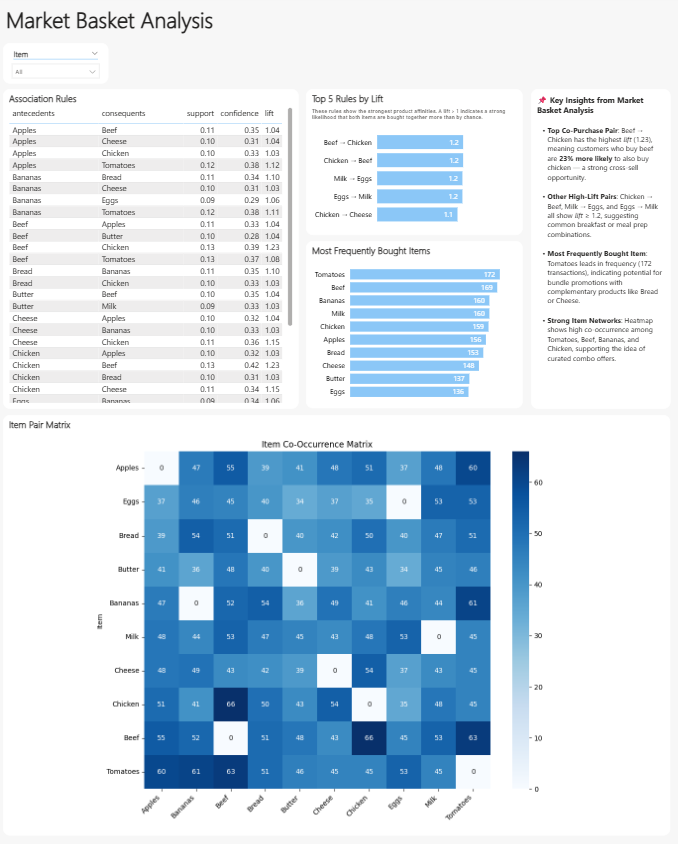

The dashboard page shown, as its layout file describes it:
{"tool":"powerbi","page":{"name":"Page 1","canvas":[1160,1450],"ordinal":0},"visuals":[{"type":"textbox","box":[10.3,10.3,502.4,61.5],"z":0},{"type":"tableEx","title":"Association Rules","fields":{"Values":["market_basket_rules.antecedents","market_basket_rules.consequents","market_basket_rules.support","market_basket_rules.confidence","market_basket_rules.lift"]},"box":[10.3,159.4,502.4,543.4],"z":1000},{"type":"clusteredBarChart","title":"Top 5 Rules by Lift","fields":{"Category":["market_basket_rules.antecedents-consequents"],"Y":["Sum(market_basket_rules.lift)"]},"box":[525.4,159.7,368.1,248.3],"z":2000},{"type":"clusteredBarChart","title":"Most Frequently Bought Items","fields":{"Y":["market_basket_grouped Lists.Item Count"],"Category":["market_basket_grouped Lists.Item"]},"box":[525.4,418.4,368.1,284.3],"z":3000},{"type":"slicer","fields":{"Values":["market_basket_rules.antecedents"]},"box":[10.1,81.8,178.7,69.5],"z":4000},{"type":"textbox","box":[906.3,159.7,237.2,543],"z":5000},{"type":"pythonVisual","title":"Item Pair Matrix","fields":{"Values":["market_basket_grouped.Apples","market_basket_grouped.Bananas","market_basket_grouped.Beef","market_basket_grouped.Bread","market_basket_grouped.Butter","market_basket_grouped.Cheese","market_basket_grouped.Chicken","market_basket_grouped.Eggs","market_basket_grouped.Milk","market_basket_grouped.Item","market_basket_grouped.Tomatoes"]},"box":[10.4,713.9,1133.1,713.9],"z":6000}]}

Visuals, with their boxes in screenshot pixels (x1, y1, x2, y2), scaled from the page's 1160x1450 canvas onto the 678x844 screenshot:
textbox: crop(6, 6, 300, 42)
"Association Rules" tableEx: crop(6, 93, 300, 409)
"Top 5 Rules by Lift" clusteredBarChart: crop(307, 93, 522, 237)
"Most Frequently Bought Items" clusteredBarChart: crop(307, 244, 522, 409)
slicer - market_basket_rules.antecedents: crop(6, 48, 110, 88)
textbox: crop(530, 93, 668, 409)
"Item Pair Matrix" pythonVisual: crop(6, 416, 668, 831)
